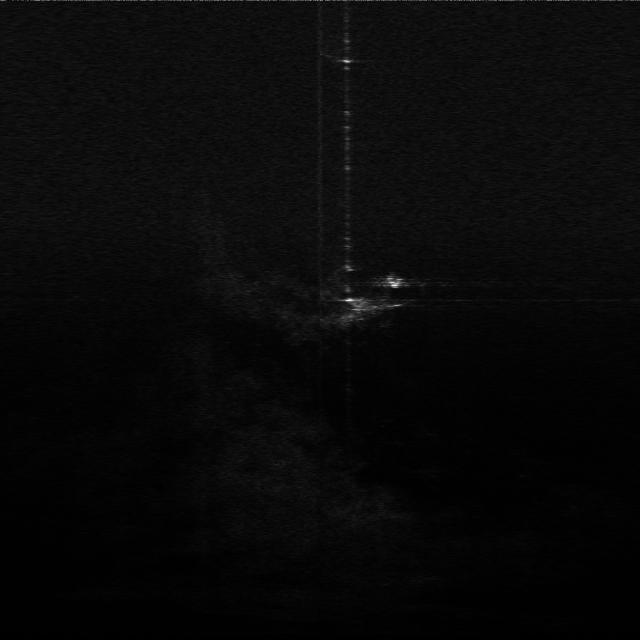rov: (381, 268, 408, 291)
